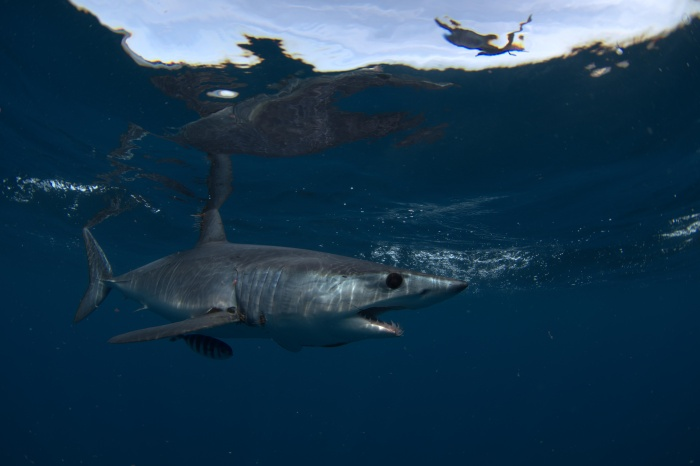Mako: (53, 208, 475, 378)
